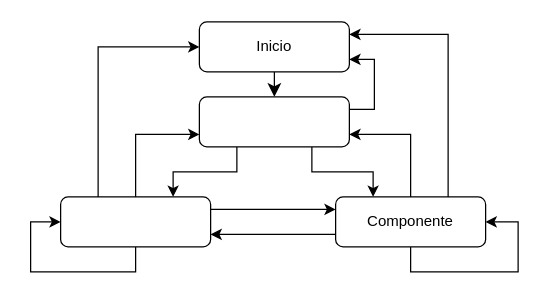
Image size: 550x304. Some labels were removed from this diagram. Each missing label, with the centre of its shape:
Periodo: [135,221]
Ver museo: [273,121]
